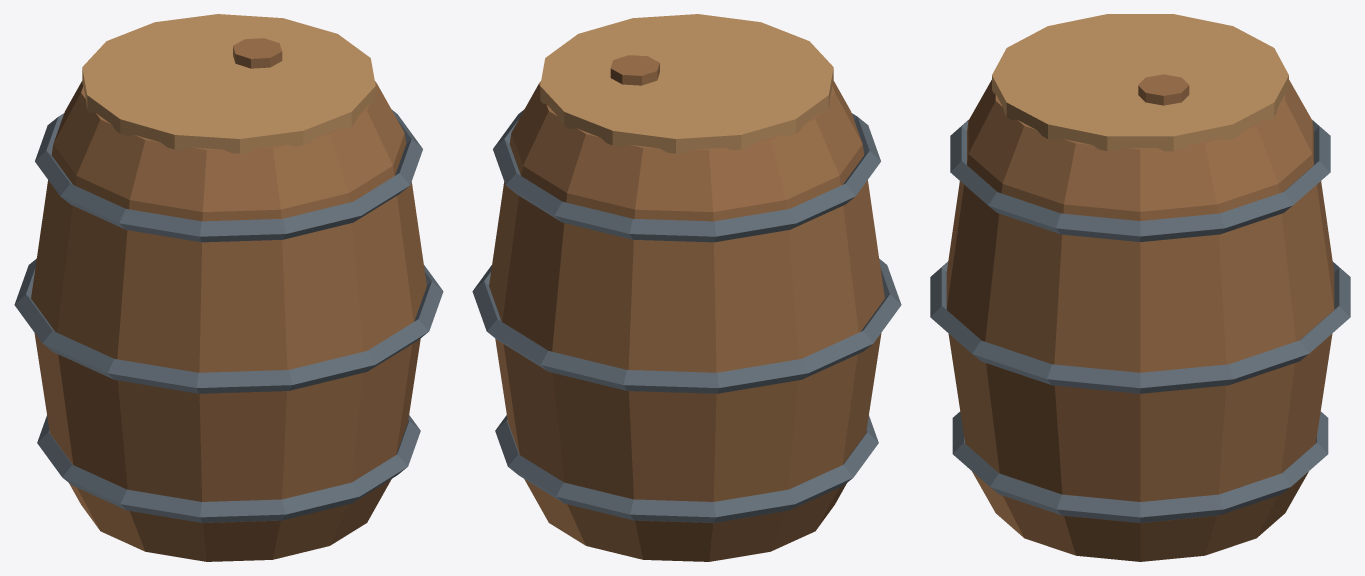
File: 02_WaterBarrel.glb
The picture shows the model from 3 angles, left to right: view 1: azimuth 30°, elevation 25°; view 2: azimuth 150°, elevation 25°; view 3: azimuth 270°, elevation 25°; orthographic projection.
Visible parts, largest first — view 1: Barrel, Lid, Torus.001, Torus.002, Torus, Bung; view 2: Barrel, Lid, Torus.001, Torus.002, Torus, Bung; view 3: Barrel, Lid, Torus.001, Torus.002, Torus, Bung.
Part boxes in pixels (<box>): Barrel: <box>31,81,426,561</box>; Lid: <box>82,14,375,153</box>; Torus.001: <box>14,259,443,393</box>; Torus.002: <box>35,109,422,242</box>; Torus: <box>37,415,420,522</box>; Bung: <box>233,38,282,68</box>; Barrel: <box>489,81,884,561</box>; Lid: <box>540,14,833,153</box>; Torus.001: <box>472,259,901,393</box>; Torus.002: <box>493,109,880,242</box>; Torus: <box>495,415,878,522</box>; Bung: <box>610,55,659,85</box>; Barrel: <box>946,80,1334,561</box>; Lid: <box>992,14,1288,151</box>; Torus.001: <box>930,261,1350,393</box>; Torus.002: <box>950,120,1330,241</box>; Torus: <box>952,411,1328,522</box>; Bung: <box>1138,74,1189,105</box>.
Bounding box in the file's own units: 0.928 × 1.03 × 0.9047.
